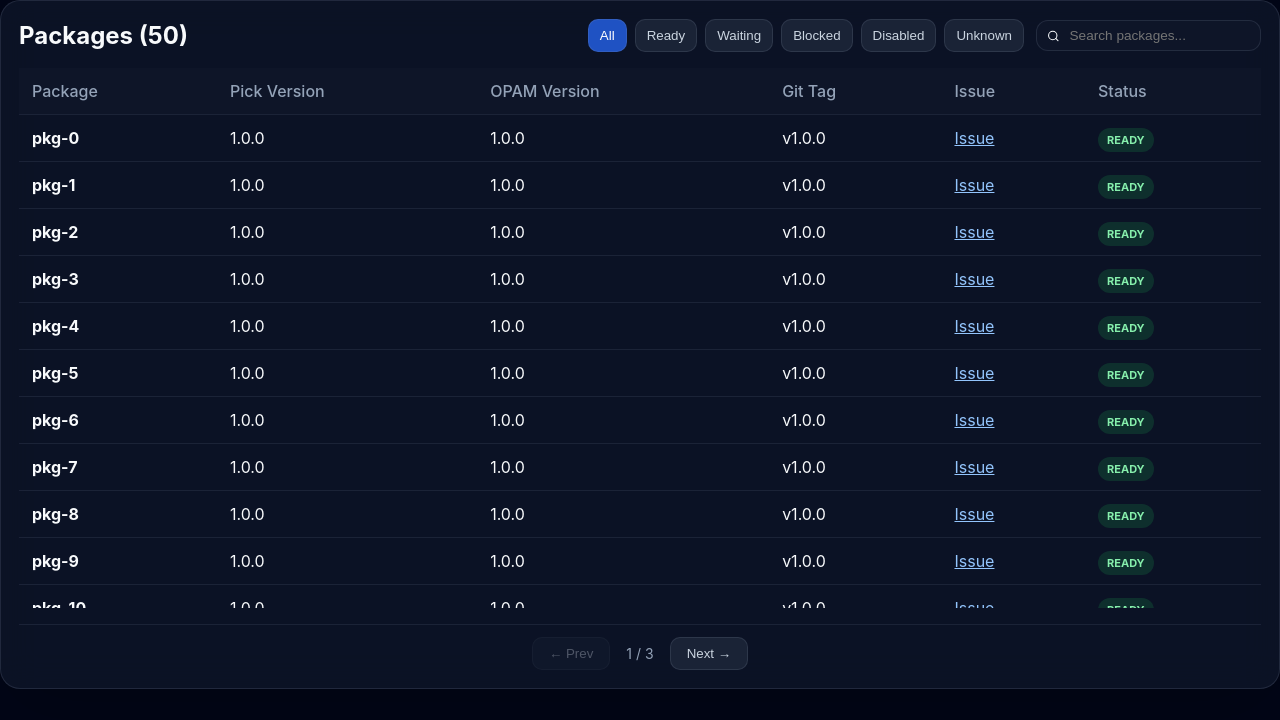
Scenario: PackageTable › Pagination › should navigate to next page
Click the button "Next →" at {"x": 709, "y": 654}, box [670,637,748,670]
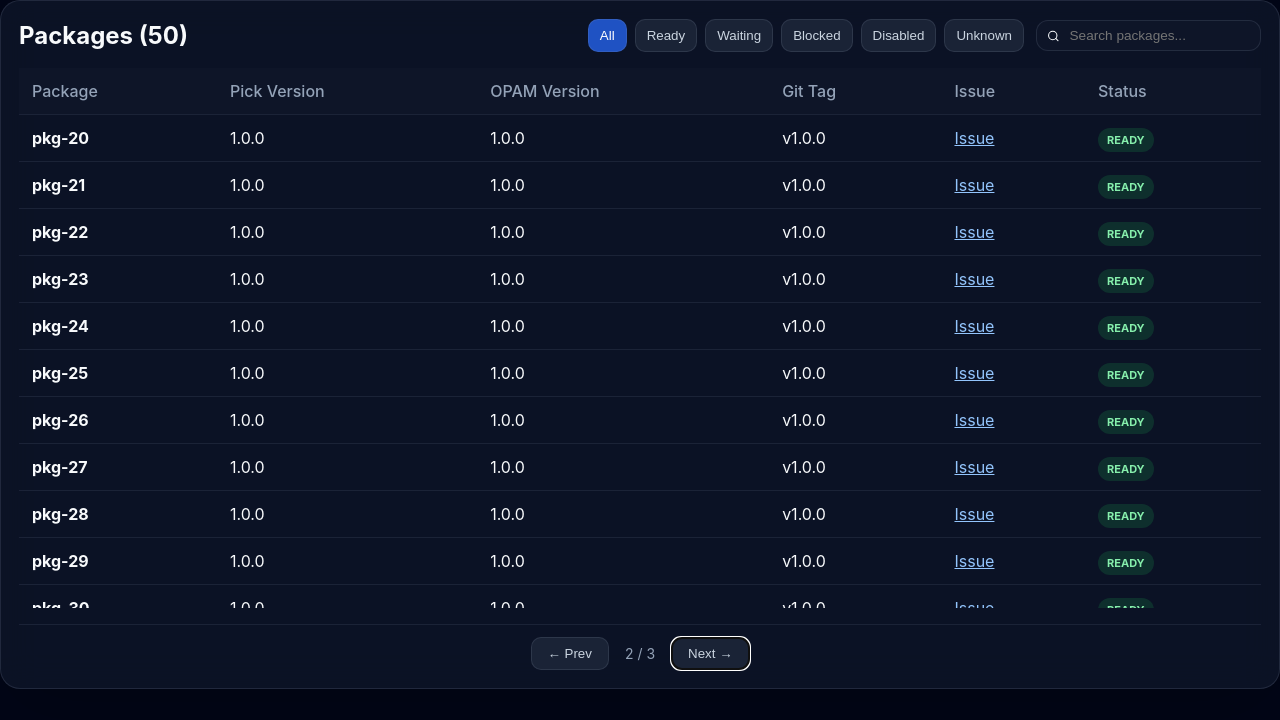
Now the text "2 / 3" is shown, box [625,645,655,662]
